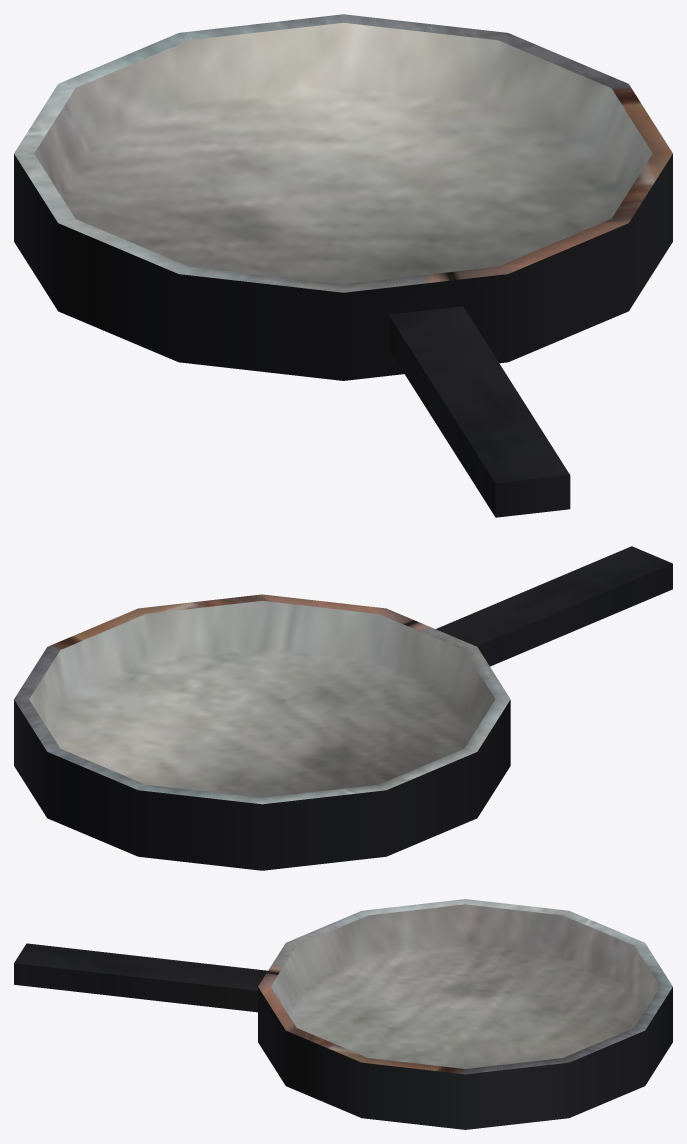
File: sarten.fbx
3 views of the same model, one above another, from view 1: azimuth 30°, elevation 25°; view 2: azimuth 150°, elevation 25°; view 3: azimuth 270°, elevation 25° (orthographic). The views are drawn at different scales.
Parts seen in each view (by area): view 1: sarten; view 2: sarten; view 3: sarten.
Part boxes in pixels (bbox=[...]): sarten: bbox=[14, 14, 672, 517]; sarten: bbox=[14, 546, 672, 870]; sarten: bbox=[14, 899, 672, 1129].
Bounding box in the file's own units: 31.55 × 4.66 × 50.1.
